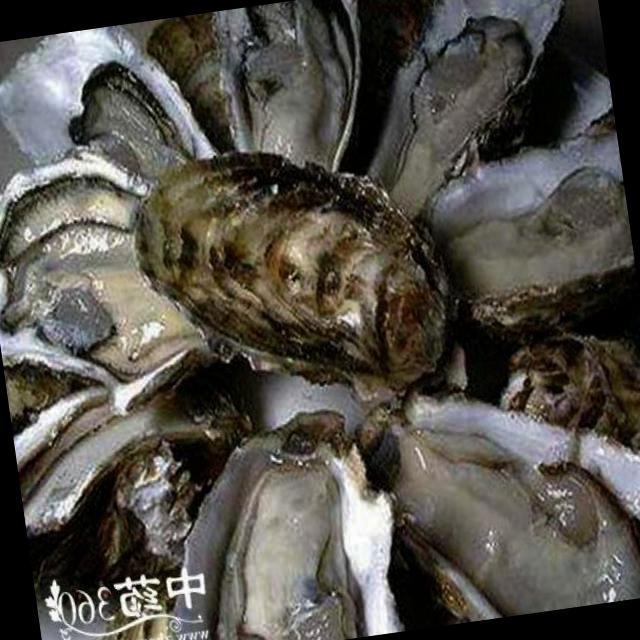Oyster-Closed: (116, 134, 470, 415), (17, 369, 263, 632), (485, 312, 640, 466), (336, 0, 450, 181), (130, 11, 242, 157)
Oyster-Open: (345, 383, 640, 627), (0, 145, 238, 425), (160, 398, 417, 640), (415, 95, 640, 354), (351, 0, 571, 225), (0, 26, 228, 192), (207, 0, 368, 173), (1, 350, 118, 483)
